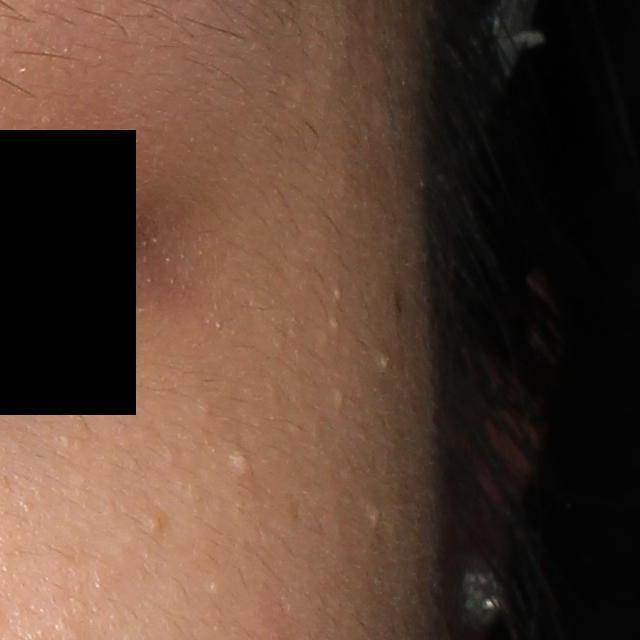other: (231, 452, 250, 474), (371, 504, 386, 528), (327, 315, 340, 334), (379, 352, 390, 374), (331, 284, 341, 303), (335, 389, 343, 410)
